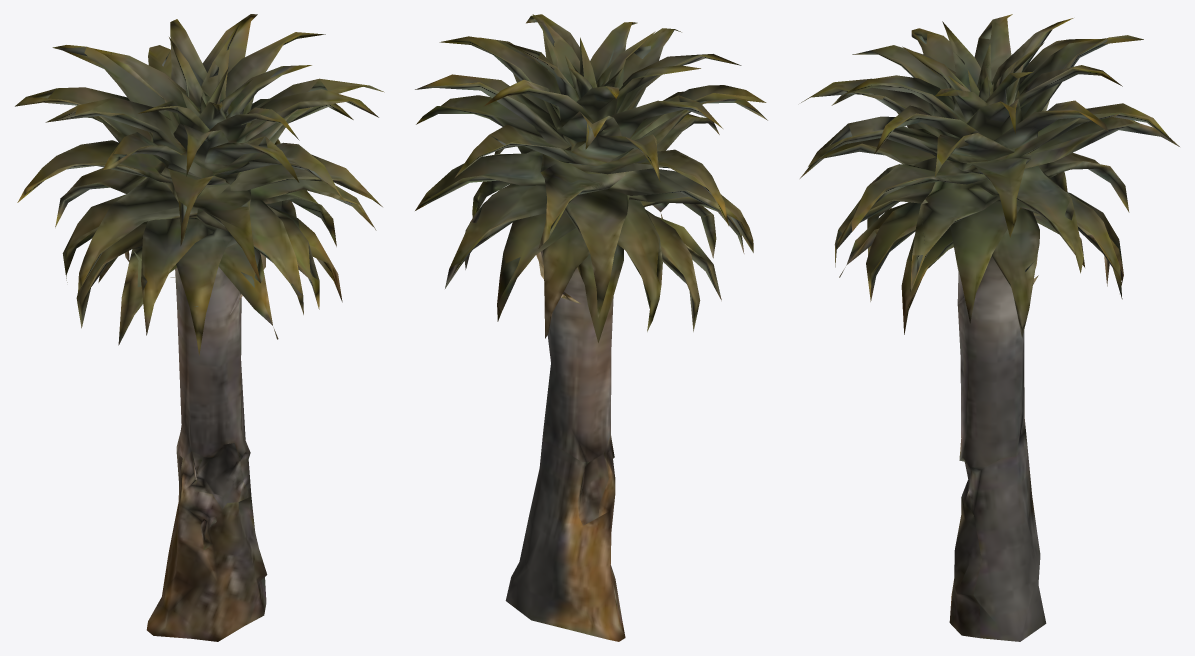
The model's file is quiver_tree_02_c.glb.
3 renders of one model, left to right at view 1: azimuth 30°, elevation 25°; view 2: azimuth 150°, elevation 25°; view 3: azimuth 270°, elevation 25°, orthographic.
Parts seen in each view (by area): view 1: quiver_tree_02; view 2: quiver_tree_02; view 3: quiver_tree_02.
Part boxes in pixels (x1=…): quiver_tree_02: x1=15, y1=14, x2=384, y2=641; quiver_tree_02: x1=415, y1=14, x2=767, y2=641; quiver_tree_02: x1=800, y1=14, x2=1179, y2=641.
Bounding box in the file's own units: 0.8607 × 1.46 × 0.8733.
1 material, 1 textured.
